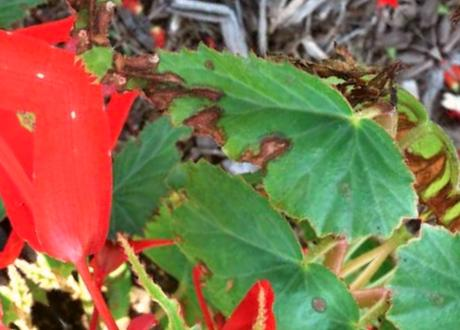Tomato leaf bacterial spot: (110, 0, 443, 301)
